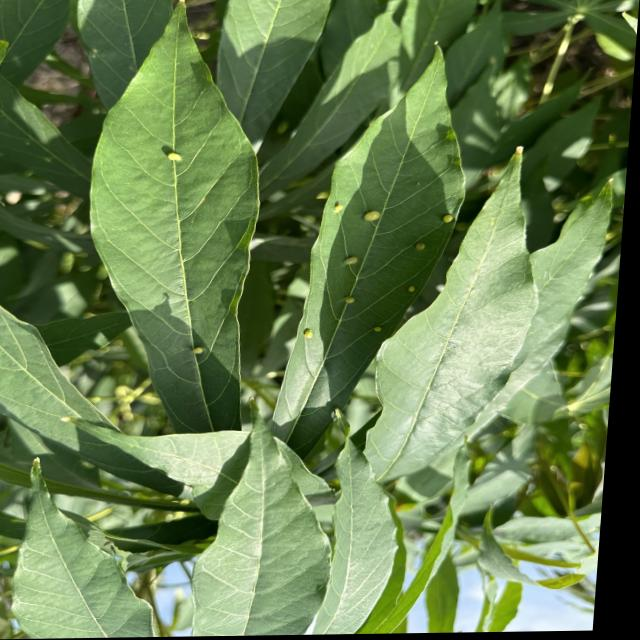Mosca: (305, 190, 401, 225), (329, 252, 370, 324), (143, 131, 202, 176), (277, 314, 338, 354), (396, 219, 441, 261), (45, 398, 91, 438), (184, 326, 226, 367), (354, 309, 400, 340), (427, 194, 468, 220), (394, 278, 433, 291)
